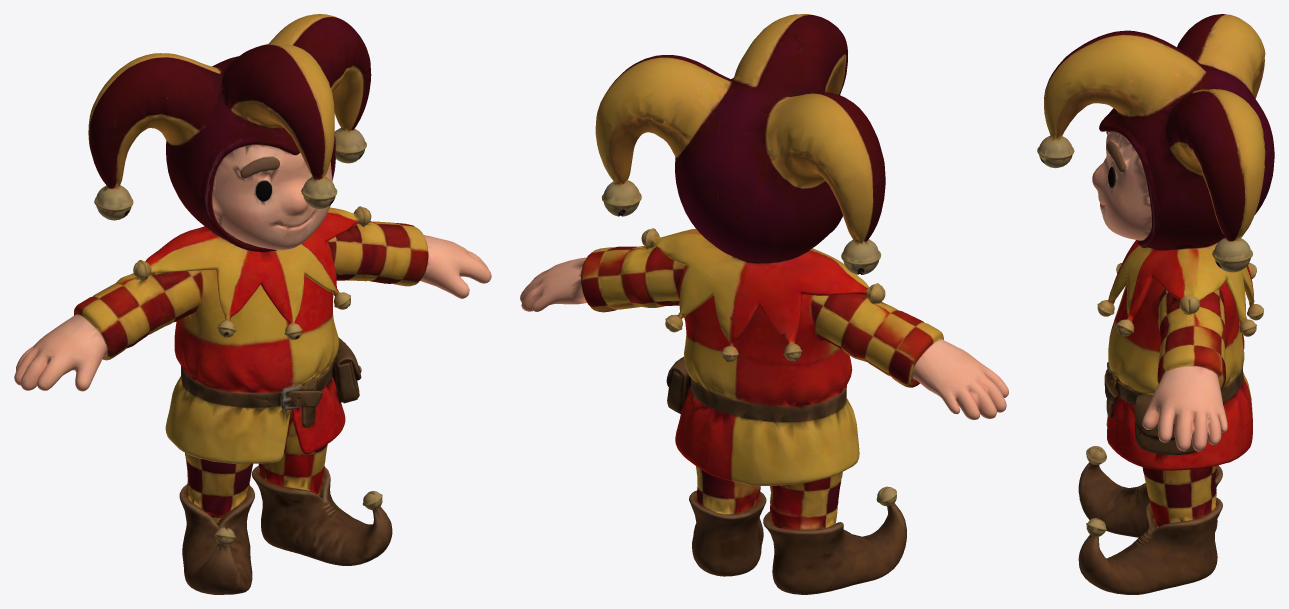
File: a3D-bufon.glb
The picture shows the model from 3 angles, left to right: view 1: azimuth 30°, elevation 25°; view 2: azimuth 150°, elevation 25°; view 3: azimuth 270°, elevation 25°; orthographic projection. The views are drawn at different scales.
Visible parts, largest first — view 1: geometry_0; view 2: geometry_0; view 3: geometry_0.
Boxes of the visible parts, box(x1,y1,x2,y2) form: geometry_0: box(14, 14, 491, 594); geometry_0: box(520, 14, 1008, 594); geometry_0: box(1037, 14, 1274, 594).
Bounding box in the file's own units: 1.78 × 1.9 × 0.7846.
1 material, 1 textured.
